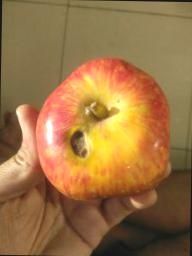Apple Overripe: (28, 48, 175, 202)
